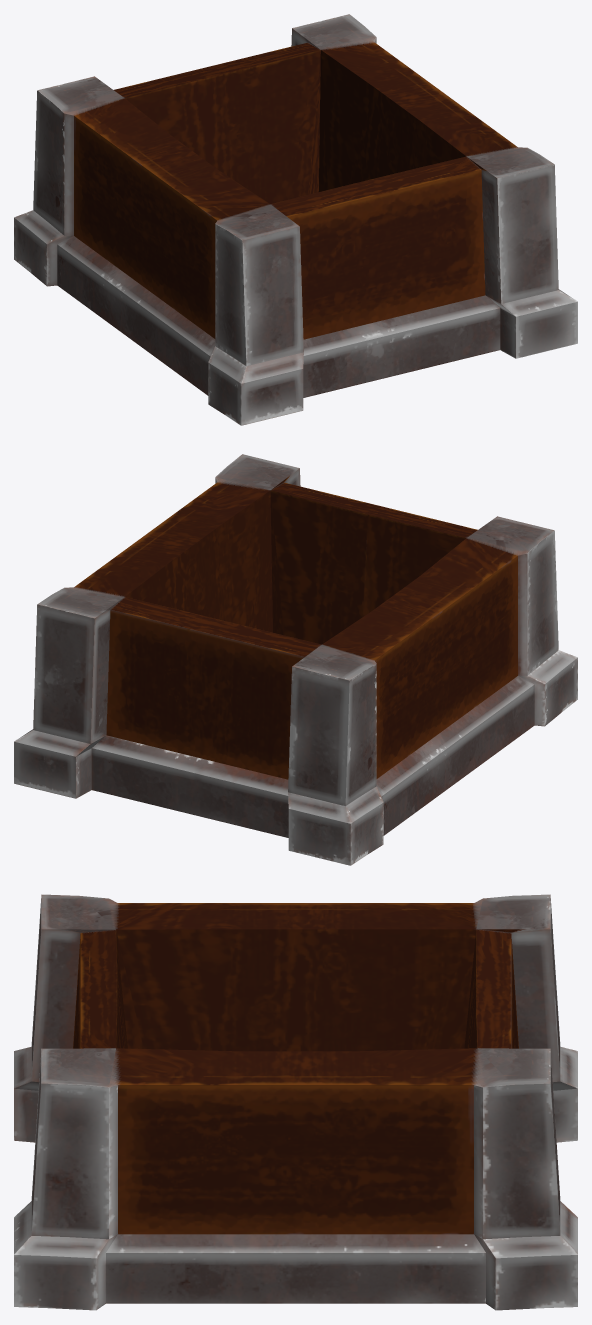
The model's file is chestbottom.fbx.
The picture shows the model from 3 angles, top to bottom: view 1: azimuth 30°, elevation 25°; view 2: azimuth 150°, elevation 25°; view 3: azimuth 270°, elevation 25°; orthographic projection. The views are drawn at different scales.
Parts seen in each view (by area): view 1: Cube; view 2: Cube; view 3: Cube.
Part boxes in pixels (x1=…): Cube: x1=14, y1=14, x2=577, y2=425; Cube: x1=14, y1=454, x2=577, y2=865; Cube: x1=14, y1=894, x2=577, y2=1310.
Bounding box in the file's own units: 476 × 239 × 557.
